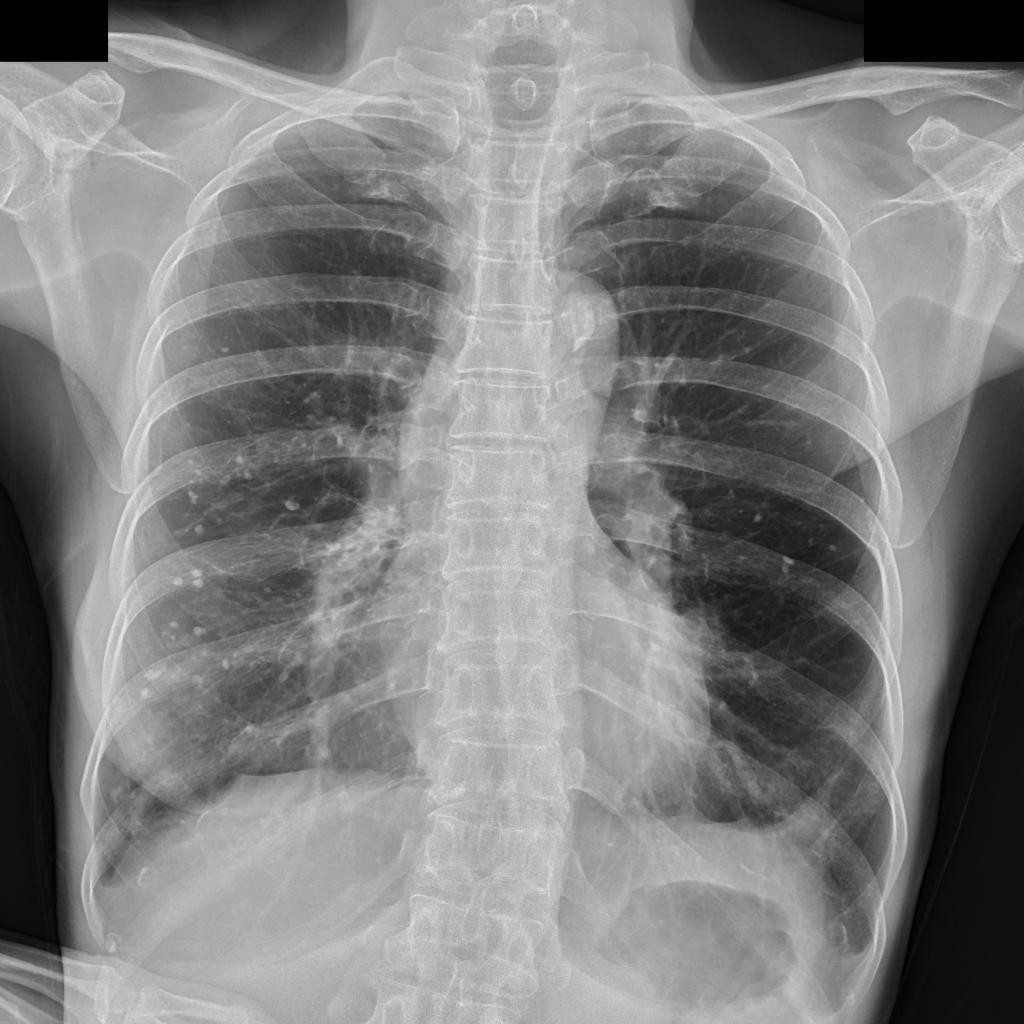Nodule: (863, 501, 880, 537), (775, 557, 795, 575), (749, 511, 765, 525), (218, 343, 231, 356), (829, 541, 838, 554)
